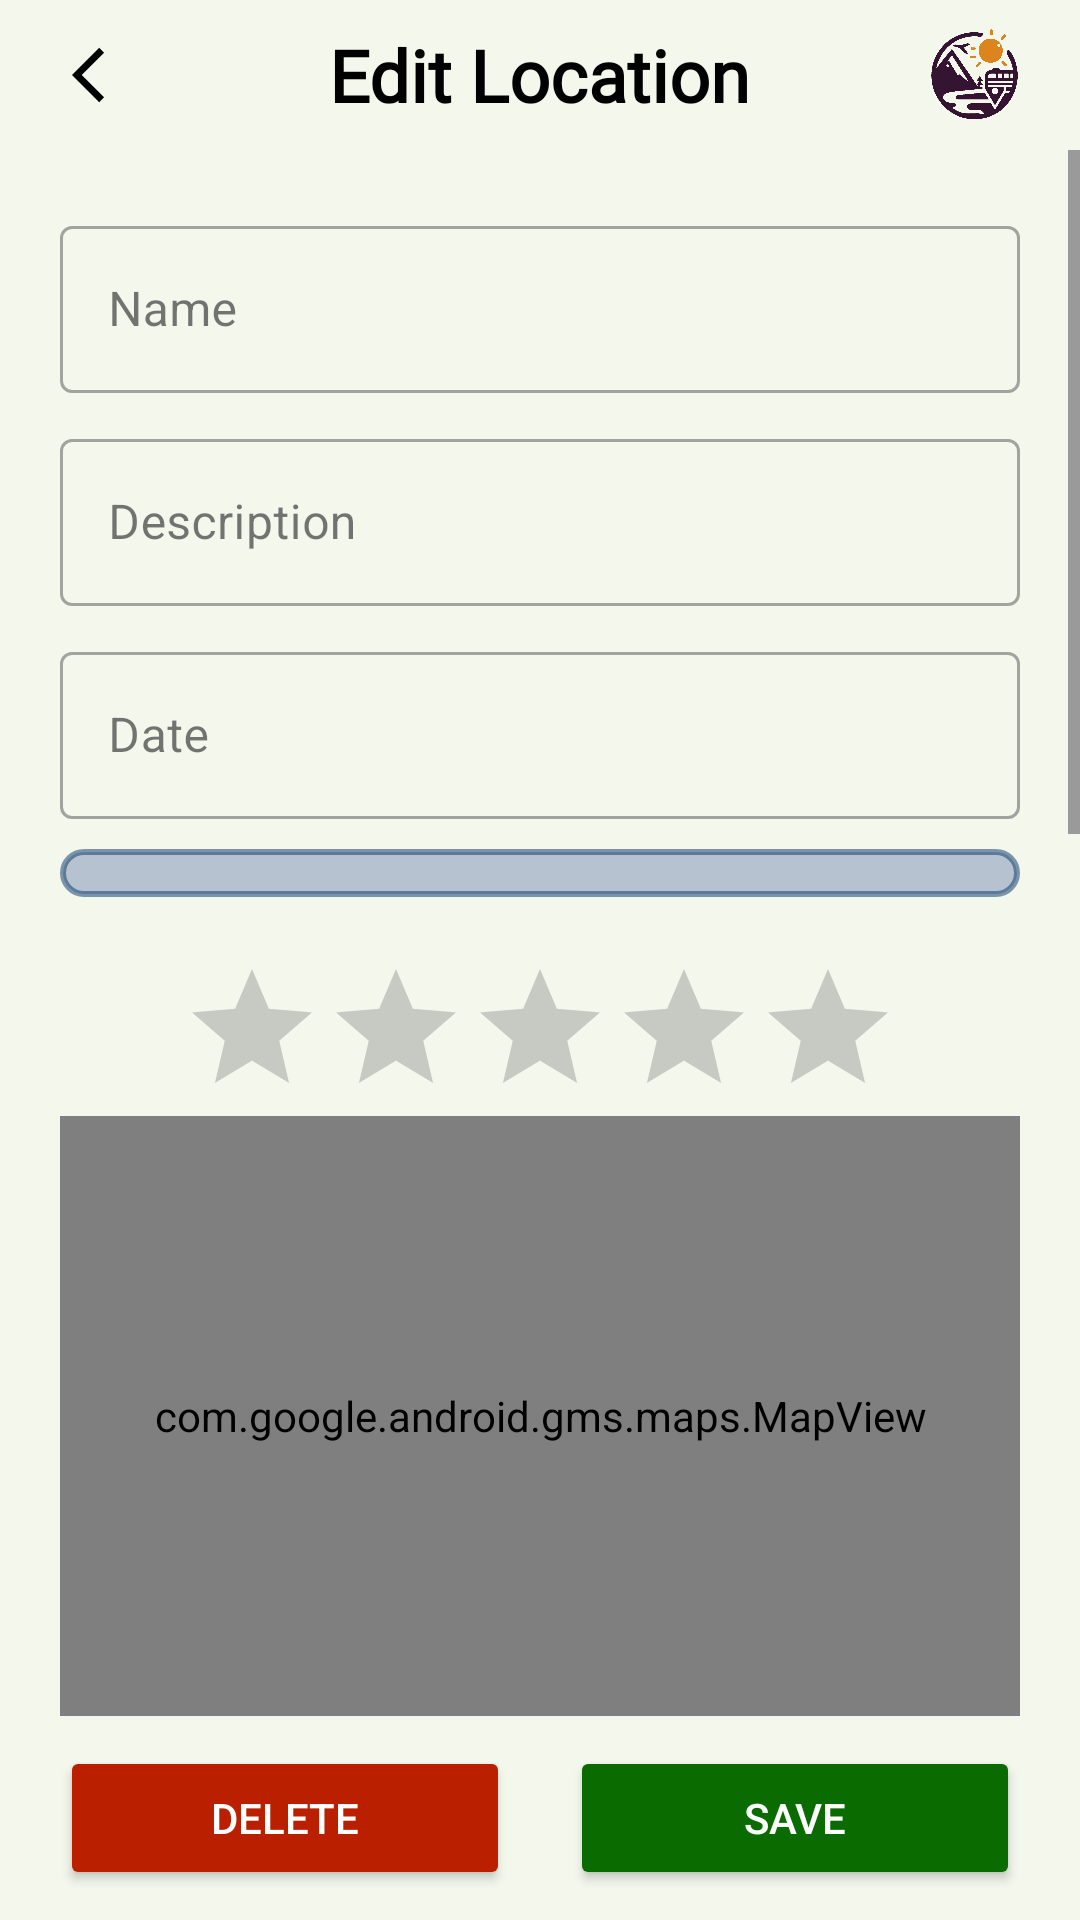

Where to tap for icons on this 1080×1920 app screen, as [x,y]:
backward: [88,75]
